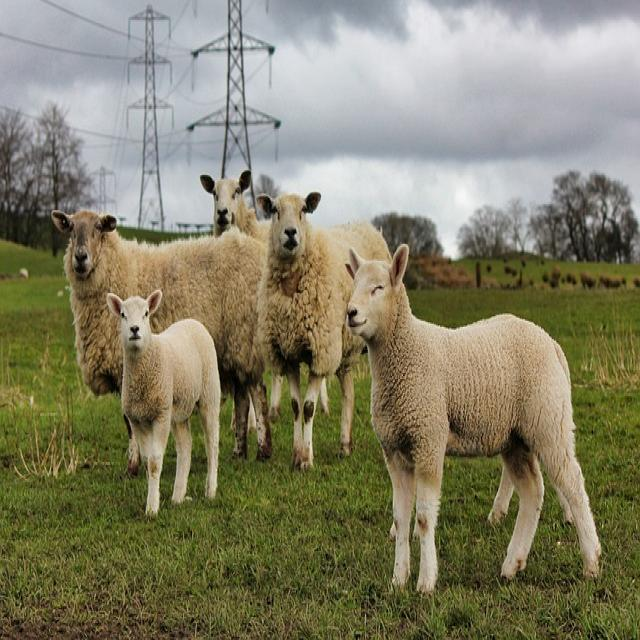sheep: (344, 241, 602, 594), (50, 207, 272, 465), (255, 190, 393, 471), (199, 169, 329, 422), (105, 287, 221, 517)
